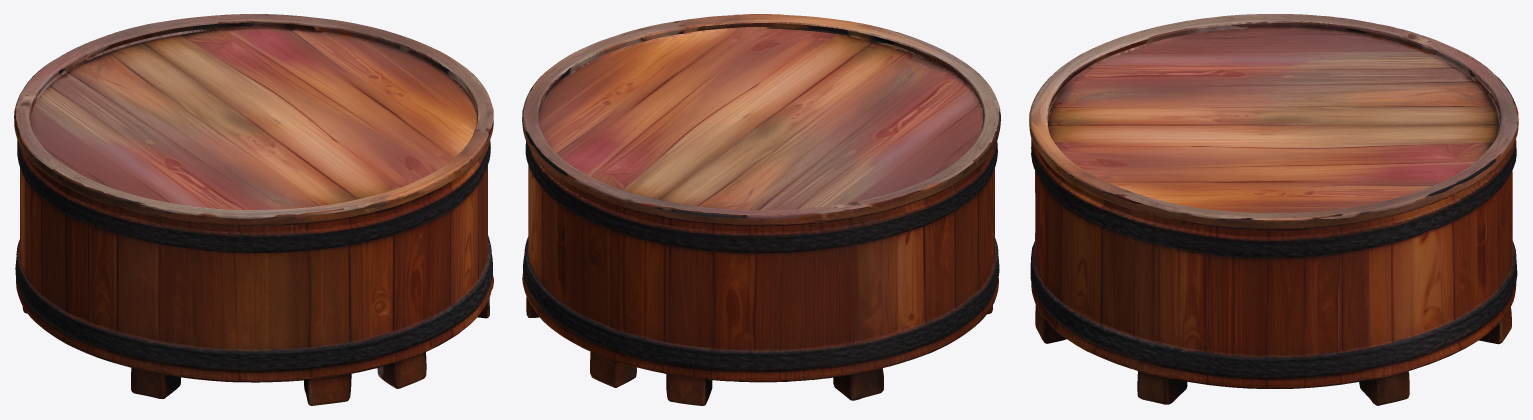
File: traveler_env_coast_autumn_yotomo_storage_vat_00001_.glb
3 views of the same model, side by side, from view 1: azimuth 30°, elevation 25°; view 2: azimuth 150°, elevation 25°; view 3: azimuth 270°, elevation 25° (orthographic).
Parts seen in each view (by area): view 1: temp_mesh.ply; view 2: temp_mesh.ply; view 3: temp_mesh.ply.
Boxes of the visible parts, left/top/right/bottom form: temp_mesh.ply: left=14, top=14, right=493, bottom=405; temp_mesh.ply: left=522, top=14, right=1000, bottom=405; temp_mesh.ply: left=1029, top=14, right=1518, bottom=405.
Size of the model in its own units: 1.97 by 0.8937 by 1.97.
1 material, 1 textured.
